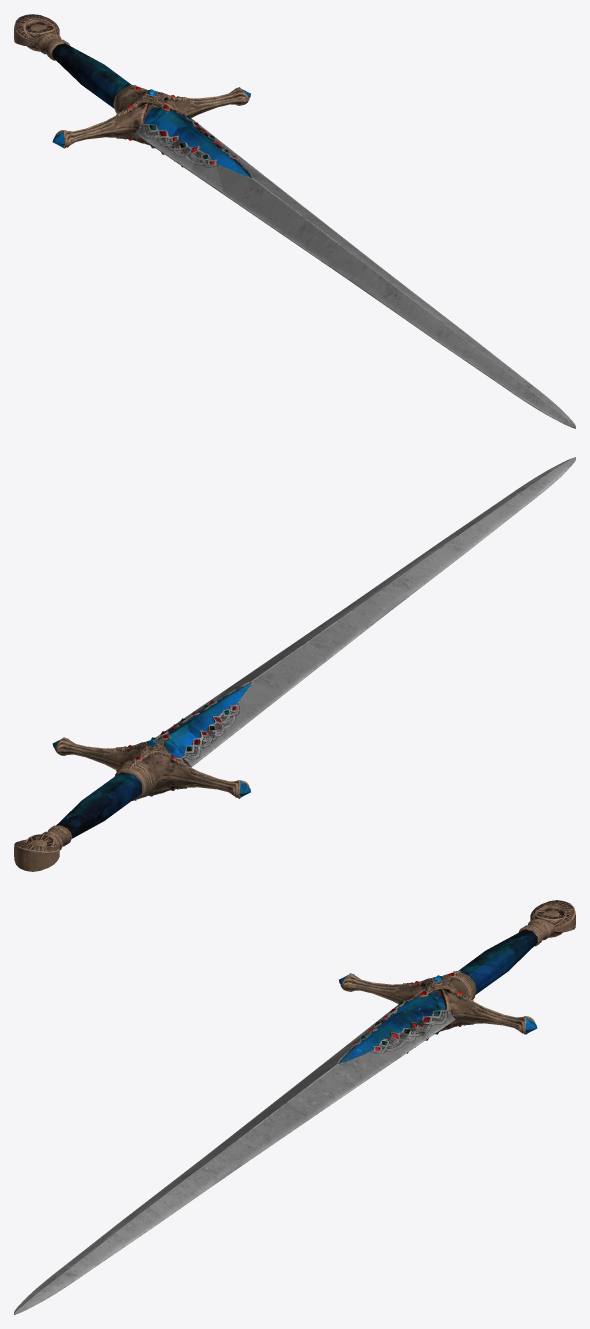
File: carianknightssword.fbx
3 renders of one model, top to bottom at view 1: azimuth 30°, elevation 25°; view 2: azimuth 150°, elevation 25°; view 3: azimuth 330°, elevation 25°, orthographic.
Parts seen in each view (by area): view 1: WP_A_0227, WP_A_0227.001; view 2: WP_A_0227, WP_A_0227.001; view 3: WP_A_0227, WP_A_0227.001.
Boxes of the visible parts, x1=… form: WP_A_0227: x1=14, y1=14, x2=575, y2=428; WP_A_0227.001: x1=52, y1=43, x2=250, y2=177; WP_A_0227: x1=14, y1=457, x2=575, y2=871; WP_A_0227.001: x1=52, y1=684, x2=250, y2=838; WP_A_0227: x1=14, y1=900, x2=575, y2=1314; WP_A_0227.001: x1=339, y1=929, x2=537, y2=1063.
Bounding box in the file's own units: 23.99 × 6.65 × 115.
2 materials, 2 textured.
